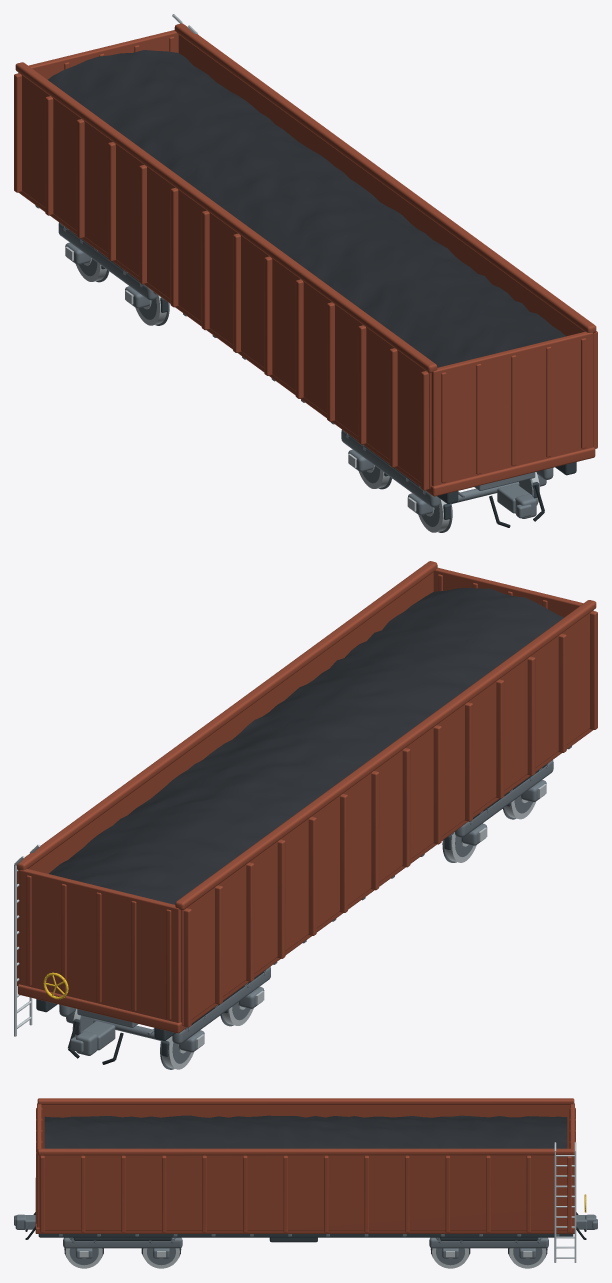
File: wagon_gondola.glb
3 views of the same model, one above another, from view 1: azimuth 30°, elevation 25°; view 2: azimuth 150°, elevation 25°; view 3: azimuth 270°, elevation 25° (orthographic). The views are drawn at different scales.
Parts seen in each view (by area): view 1: gondola_body, cargo_coal, deck, bogie_0_frame, bogie_1_frame, coupler_front, underframe; view 2: gondola_body, cargo_coal, deck, bogie_1_frame, bogie_0_frame, coupler_rear, access_ladders, underframe; view 3: gondola_body, cargo_coal, underframe, bogie_0_frame, bogie_1_frame, deck, access_ladders, bogie_0_wheel_0_R, bogie_1_wheel_1_R, bogie_0_wheel_1_R, bogie_1_wheel_0_R, coupler_front (+2 smaller).
Boxes of the visible parts, <box> form: gondola_body: <box>14,23,597,490</box>; cargo_coal: <box>48,50,565,367</box>; deck: <box>18,191,595,496</box>; bogie_0_frame: <box>341,430,553,519</box>; bogie_1_frame: <box>58,222,167,312</box>; coupler_front: <box>489,484,544,527</box>; underframe: <box>35,205,576,503</box>; gondola_body: <box>17,561,597,1027</box>; cargo_coal: <box>49,587,563,904</box>; deck: <box>17,729,592,1033</box>; bogie_1_frame: <box>59,966,270,1056</box>; bogie_0_frame: <box>444,760,553,849</box>; coupler_rear: <box>68,1021,123,1064</box>; access_ladders: <box>14,844,39,1036</box>; underframe: <box>36,746,571,1040</box>; gondola_body: <box>36,1098,575,1232</box>; cargo_coal: <box>44,1115,567,1148</box>; underframe: <box>38,1234,573,1237</box>; bogie_0_frame: <box>63,1237,182,1258</box>; bogie_1_frame: <box>429,1237,548,1258</box>; deck: <box>35,1178,574,1233</box>; access_ladders: <box>554,1142,576,1262</box>; bogie_0_wheel_0_R: <box>64,1248,102,1268</box>; bogie_1_wheel_1_R: <box>509,1248,547,1268</box>; bogie_0_wheel_1_R: <box>142,1248,181,1268</box>; bogie_1_wheel_0_R: <box>430,1248,469,1268</box>; coupler_front: <box>14,1212,35,1239</box>.
Size of the model in its own units: 3.25 by 3.74 by 14.52.
